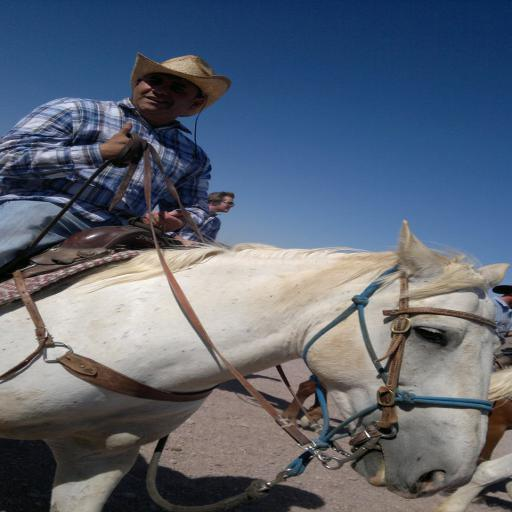horse: (0, 218, 498, 512), (276, 376, 512, 462), (439, 364, 512, 512)
